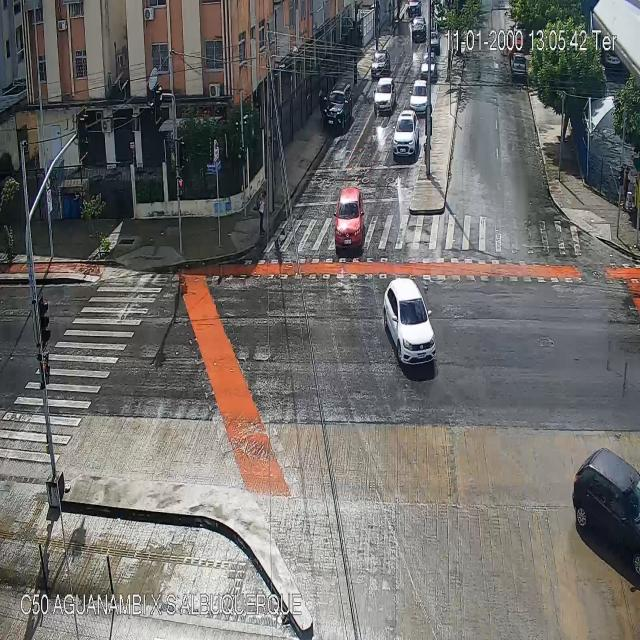Car: (570, 449, 640, 577), (383, 279, 437, 372), (335, 189, 366, 253), (393, 108, 420, 160), (322, 83, 352, 127), (374, 78, 394, 114), (409, 80, 428, 117), (369, 49, 388, 77), (412, 14, 426, 46), (511, 54, 526, 82), (420, 56, 434, 83), (428, 29, 440, 52)
